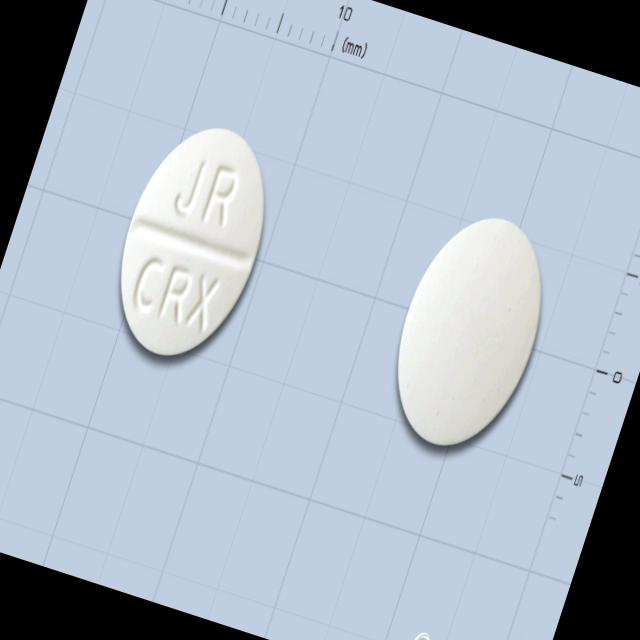Ciroxin - 250mg: (87, 106, 295, 386)
